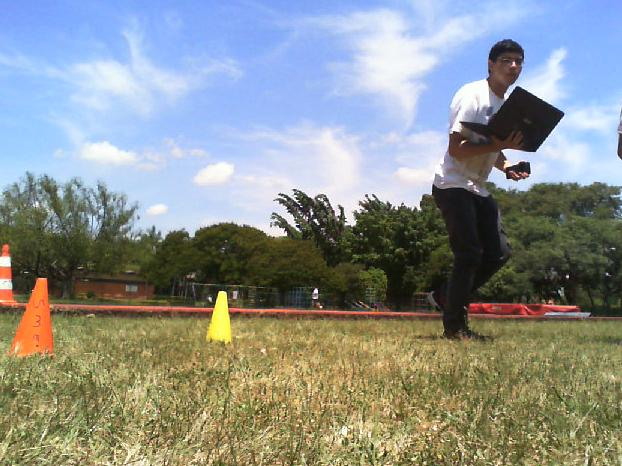0 cone: (6, 279, 55, 357), (206, 291, 232, 344), (0, 245, 18, 305)
